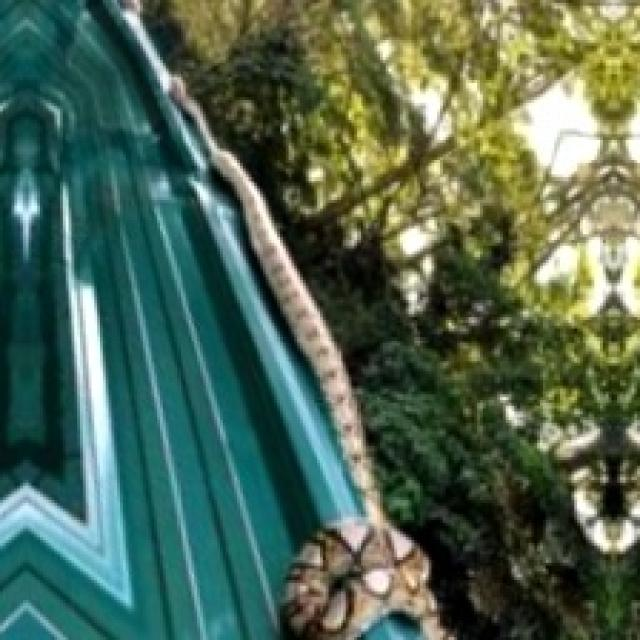reticulated python: (171, 77, 451, 637)
